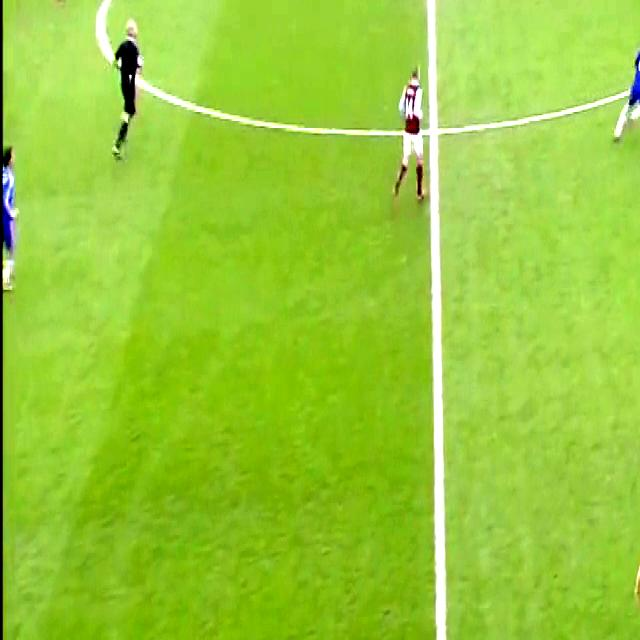referee: (106, 7, 150, 168)
soccer-player: (388, 59, 434, 207), (609, 16, 640, 144), (0, 135, 22, 290), (623, 469, 640, 640), (40, 0, 77, 9)
